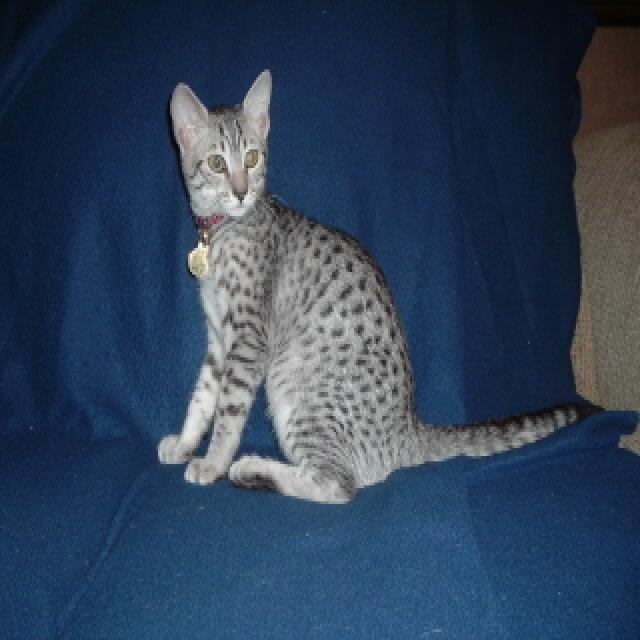Egyptian_Mau: (165, 60, 278, 216)
